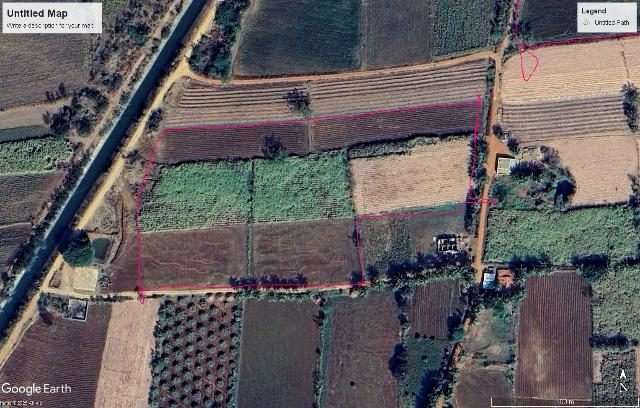DryFarms: (350, 139, 470, 216), (503, 34, 640, 101), (542, 135, 640, 206), (95, 297, 157, 407)
EmptyFarms: (0, 303, 111, 408), (516, 275, 594, 408), (96, 229, 250, 293), (247, 215, 365, 285), (310, 103, 481, 151), (156, 119, 308, 166)
Farms: (483, 200, 640, 340), (150, 295, 245, 407), (322, 287, 404, 408), (230, 2, 360, 77), (239, 296, 322, 408), (134, 157, 255, 230), (250, 149, 353, 224), (501, 97, 625, 142), (360, 1, 435, 73), (430, 1, 498, 59)
